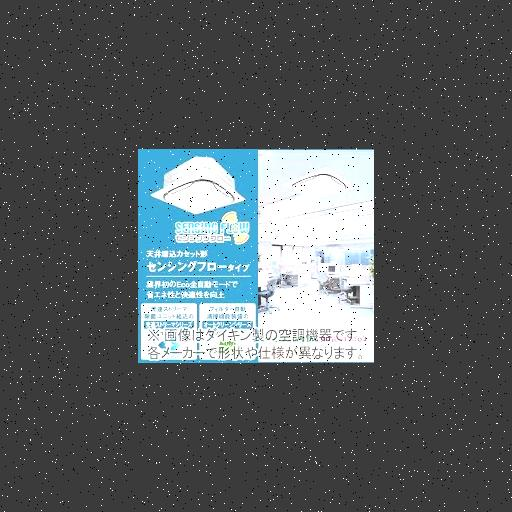4-way-ac: (150, 168, 245, 215), (282, 167, 354, 199)
